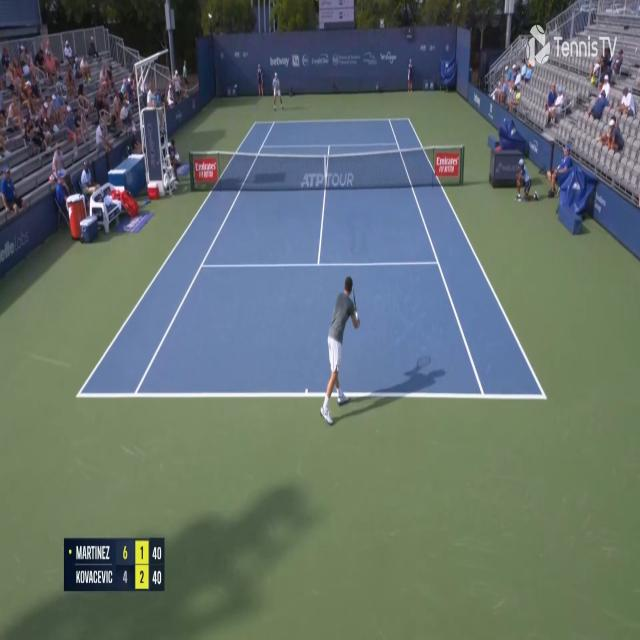tennis-player: (318, 272, 364, 428), (271, 70, 283, 111)
